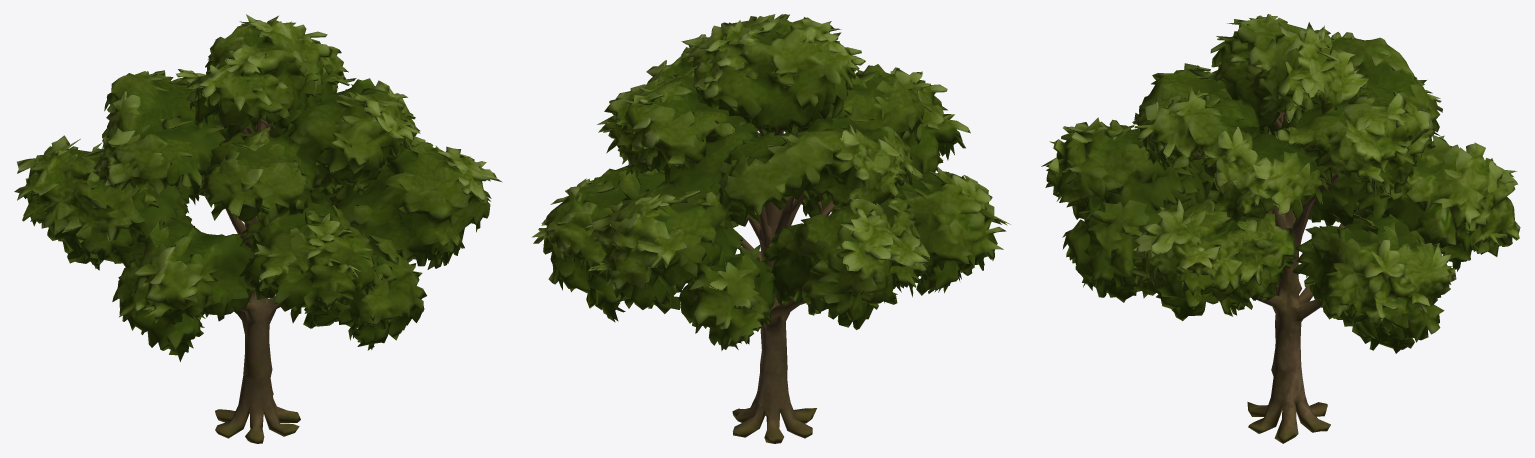
Rendered from tree.glb.
The picture shows the model from 3 angles, left to right: view 1: azimuth 30°, elevation 25°; view 2: azimuth 150°, elevation 25°; view 3: azimuth 270°, elevation 25°; orthographic projection.
Visible parts, largest first — view 1: tripo_node_659c769f-6c66-466c-a94e-2558d27489ea; view 2: tripo_node_659c769f-6c66-466c-a94e-2558d27489ea; view 3: tripo_node_659c769f-6c66-466c-a94e-2558d27489ea.
Boxes of the visible parts, x1,y1,x2,y2 form: tripo_node_659c769f-6c66-466c-a94e-2558d27489ea: [14, 14, 502, 443]; tripo_node_659c769f-6c66-466c-a94e-2558d27489ea: [532, 14, 1010, 443]; tripo_node_659c769f-6c66-466c-a94e-2558d27489ea: [1041, 14, 1520, 443].
Bounding box in the file's own units: 4.57 × 4.5 × 4.87.
Materials: 1 (1 with a texture image).
